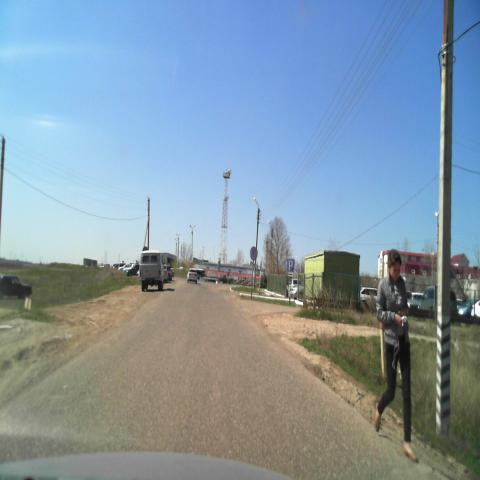6_4: (287, 257, 295, 271)
